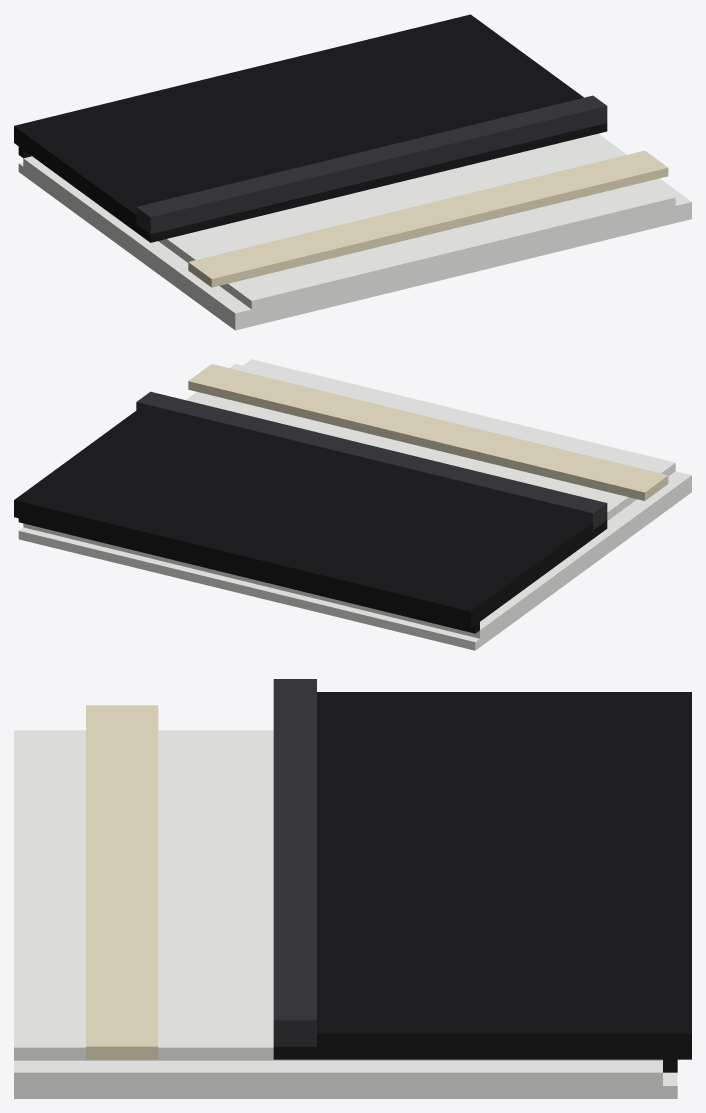
The model's file is nun_wimple.glb.
3 views of the same model, one above another, from view 1: azimuth 30°, elevation 25°; view 2: azimuth 150°, elevation 25°; view 3: azimuth 270°, elevation 25° (orthographic). The views are drawn at different scales.
Parts seen in each view (by area): view 1: nun_wimple:compound; view 2: nun_wimple:compound; view 3: nun_wimple:compound.
Boxes of the visible parts, x1,y1,x2,y2 form: nun_wimple:compound: (14,14,691,330); nun_wimple:compound: (14,359,691,650); nun_wimple:compound: (14,679,691,1098).
Bounding box in the file's own units: 0.224 × 0.024 × 0.188.
